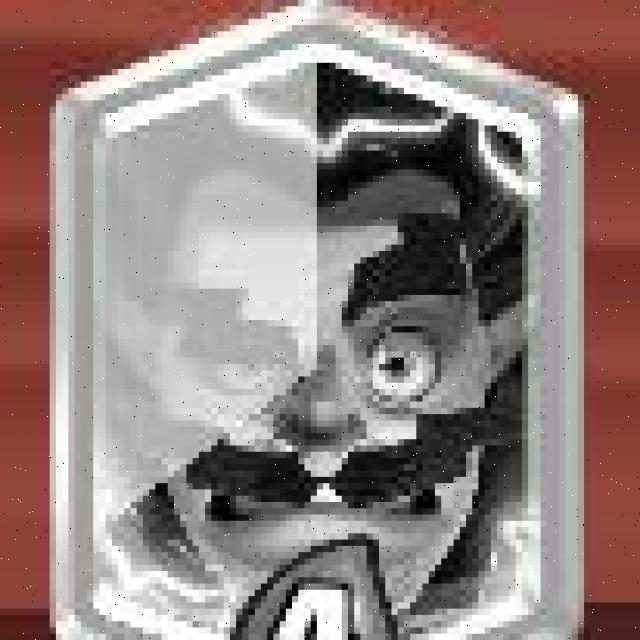Electro_Wizard: (60, 3, 585, 640)
